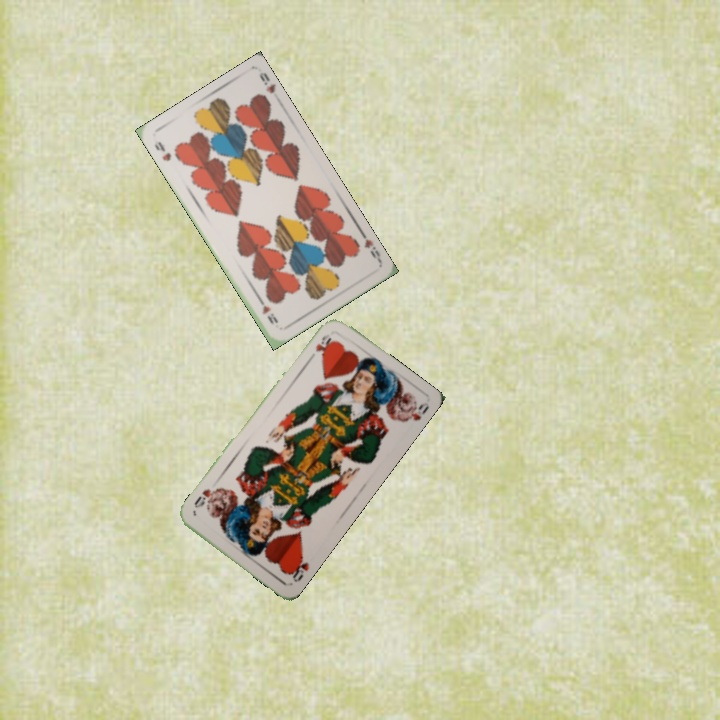H9: (357, 227, 384, 264), (150, 137, 174, 164)
HO: (304, 330, 334, 364), (285, 553, 312, 585)
